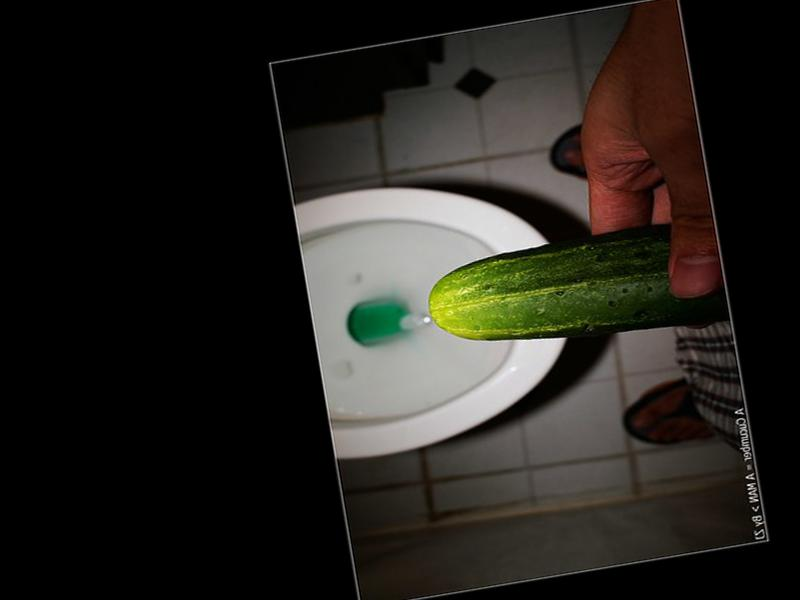Cucumber: (422, 215, 735, 367)
